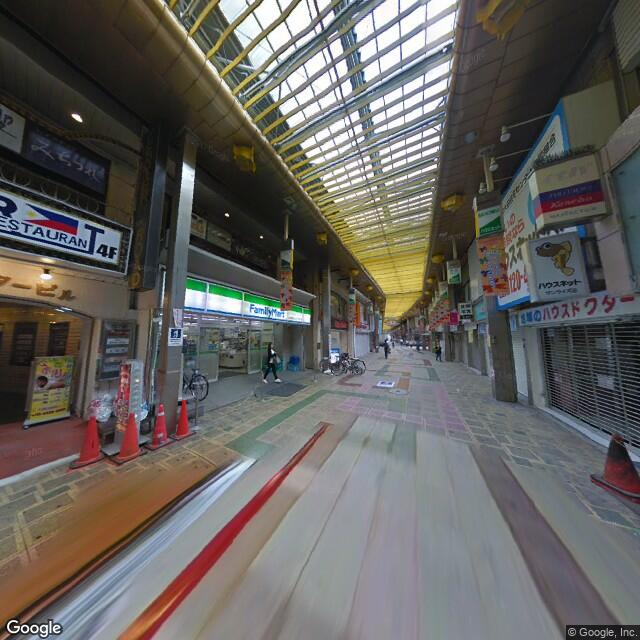family_mart: (183, 276, 313, 327), (244, 302, 286, 320)
